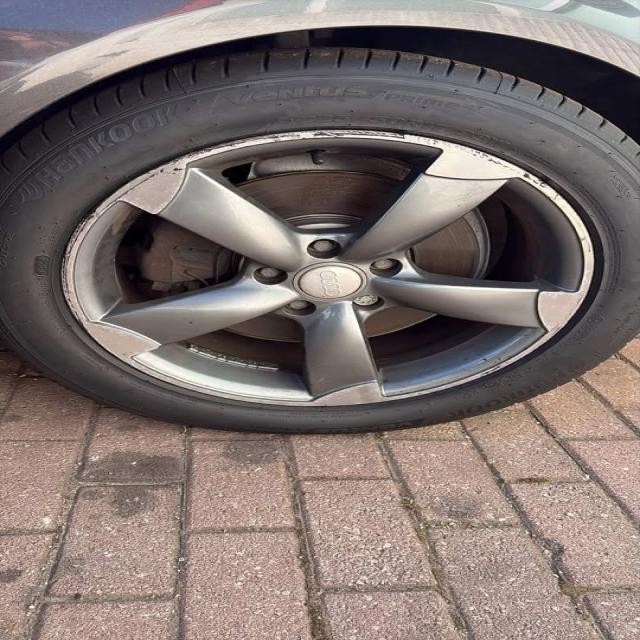jante: (54, 128, 599, 408)
parafuso: (308, 238, 339, 257), (282, 298, 314, 314), (252, 266, 282, 282), (354, 294, 382, 310), (370, 258, 397, 273)
roda: (0, 44, 640, 435)
